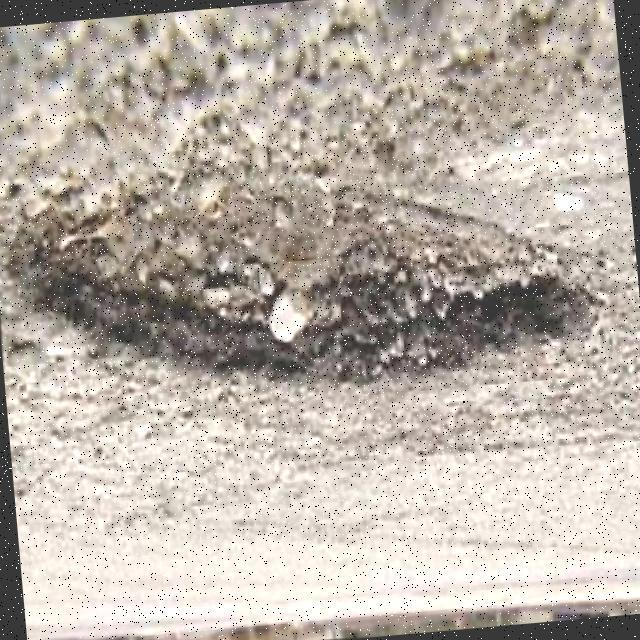Pothole: (17, 182, 604, 384)
